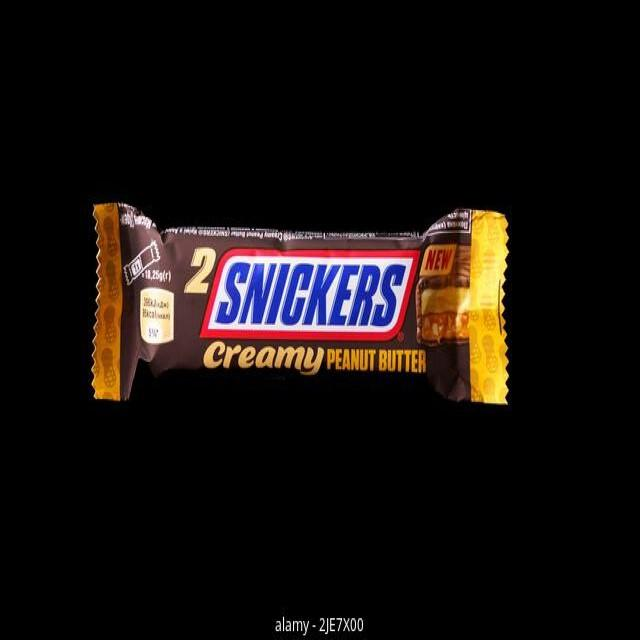snickers_chocolate: (70, 193, 562, 430)
